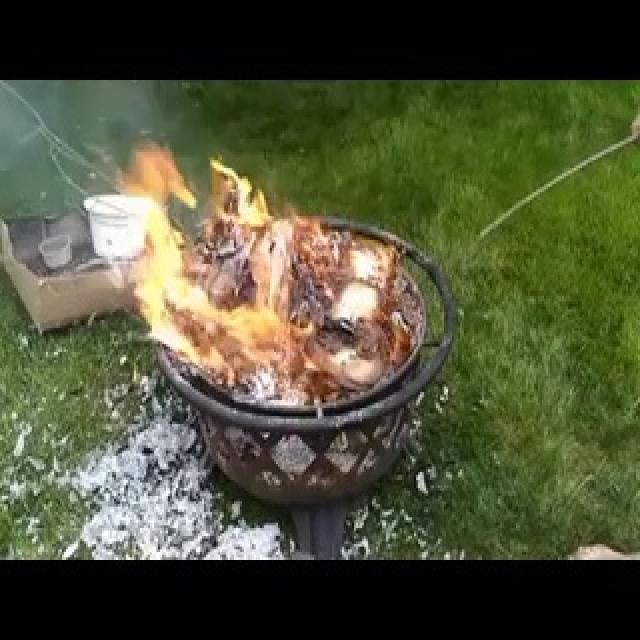fire: (98, 104, 396, 406)
